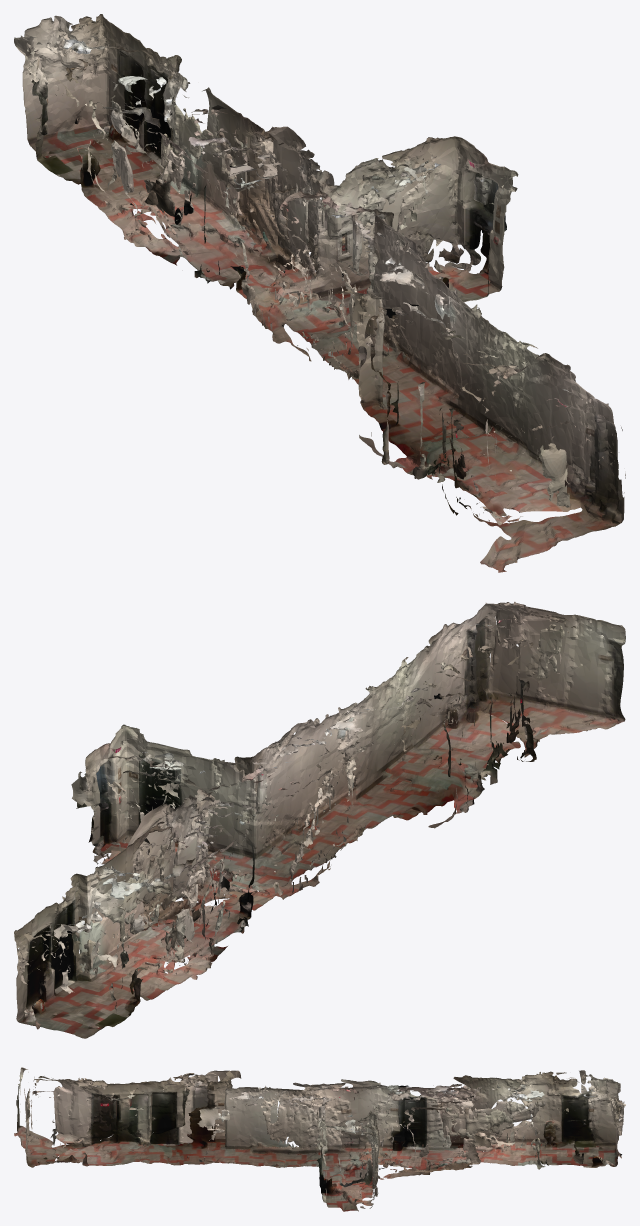
File: hallway.glb
The picture shows the model from 3 angles, top to bottom: view 1: azimuth 30°, elevation 25°; view 2: azimuth 150°, elevation 25°; view 3: azimuth 270°, elevation 25°; orthographic projection. The views are drawn at different scales.
Bounding box in the file's own units: 8.12 × 3.6 × 24.25.
6 materials, 6 textured.
